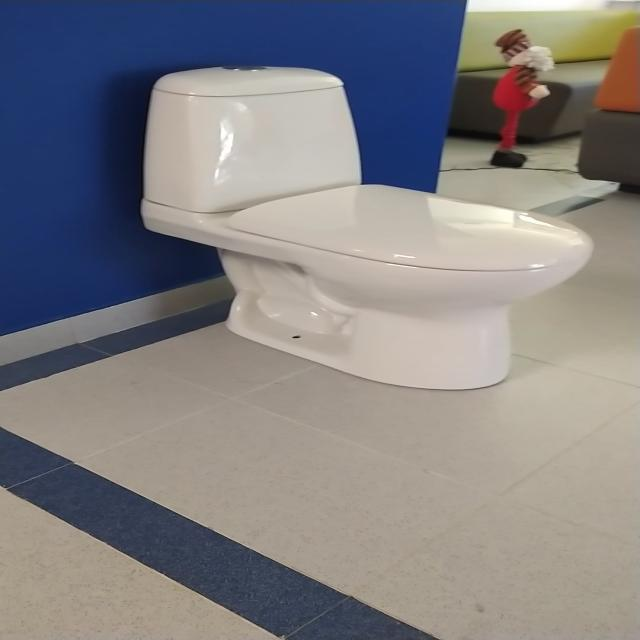toilet: (134, 57, 602, 395)
